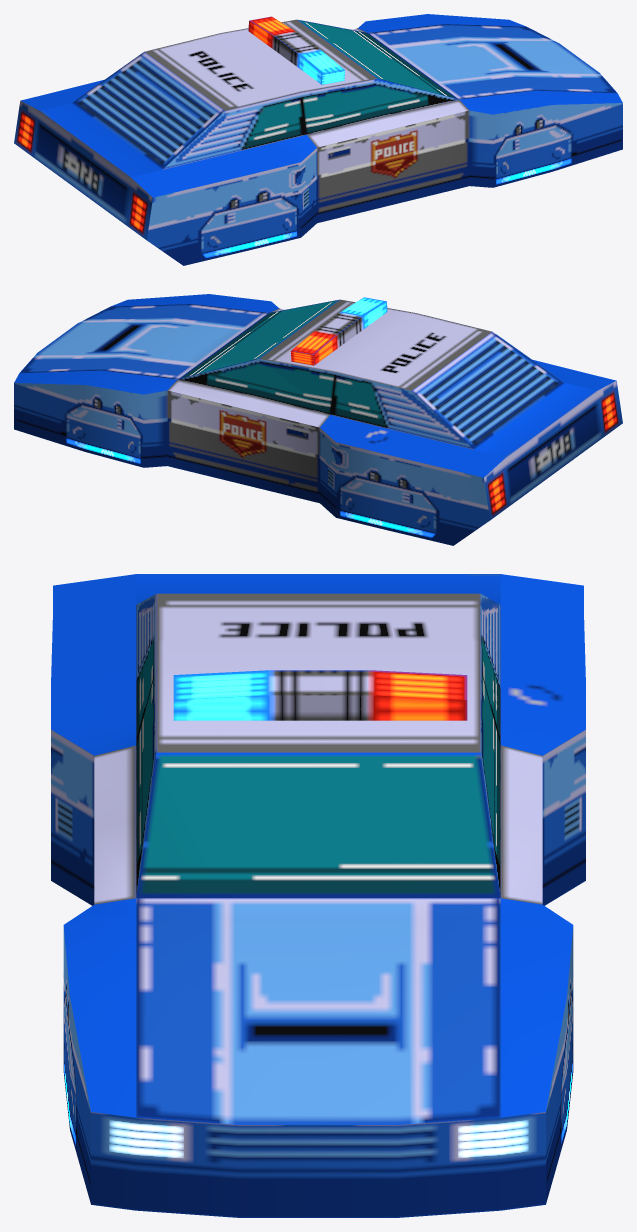
The model's file is police_car.FBX.
The picture shows the model from 3 angles, top to bottom: view 1: azimuth 30°, elevation 25°; view 2: azimuth 150°, elevation 25°; view 3: azimuth 270°, elevation 25°; orthographic projection. The views are drawn at different scales.
Parts seen in each view (by area): view 1: police; view 2: police; view 3: police.
Part boxes in pixels (x1,y1,x2,y2): police: (14, 14, 622, 265); police: (14, 294, 622, 545); police: (51, 574, 585, 1217).
Bounding box in the file's own units: 62.37 × 15.62 × 28.94.
1 material, 1 textured.
